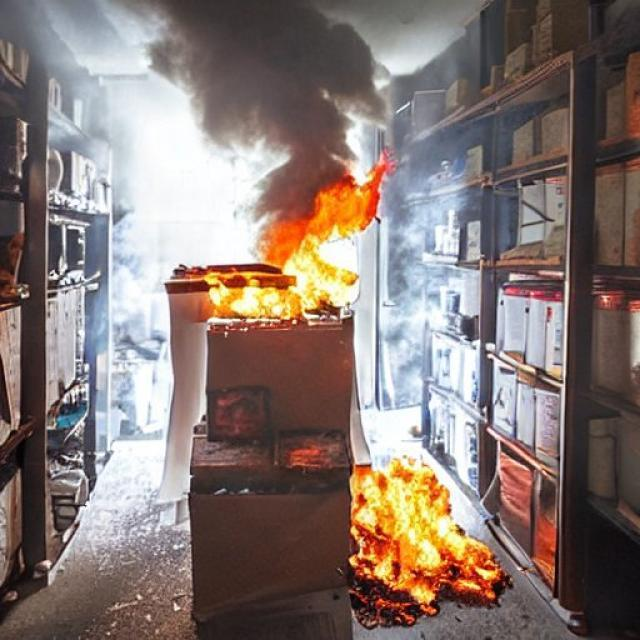Fire: (351, 454, 514, 614), (207, 197, 389, 318)
Smoke: (79, 0, 421, 189)
